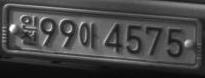4: (103, 22, 123, 53)
5: (125, 24, 144, 55), (166, 27, 184, 58)
7: (144, 25, 163, 57)
9: (39, 16, 56, 46), (59, 18, 76, 47)
아: (77, 22, 98, 48)
인천_V: (19, 14, 38, 46)
